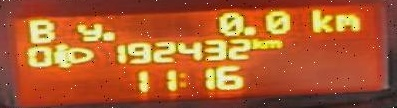-: (101, 29, 115, 42), (243, 24, 257, 35)
0: (213, 9, 243, 35), (264, 8, 290, 35), (25, 44, 52, 67)
1: (133, 68, 150, 95), (162, 66, 177, 93), (112, 41, 126, 66), (203, 65, 213, 90)
2: (150, 40, 174, 63), (227, 37, 250, 60)
3: (203, 38, 226, 61)
4: (176, 39, 201, 60)
6: (213, 64, 244, 89)
9: (127, 41, 150, 64)
X: (25, 18, 55, 44), (73, 21, 102, 42), (310, 7, 333, 33), (334, 13, 361, 32), (176, 70, 189, 89), (261, 39, 283, 48), (250, 37, 263, 49)
